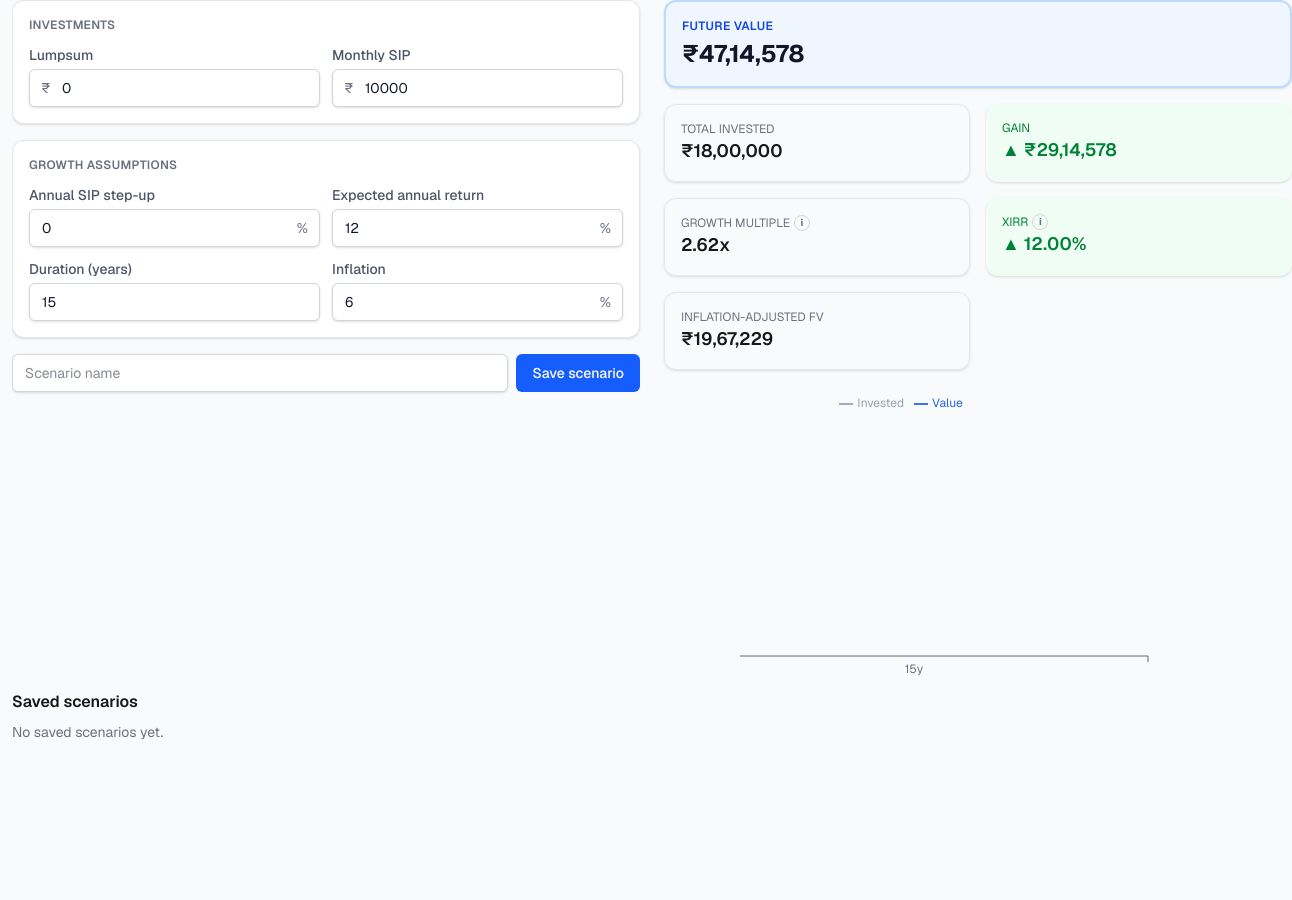
Scenario: CalculatorTab validation › replaces the results with a summary instead of computing on an empty field
Clear the number field labelled "Duration (years)" at [174, 302], box x1=29 y1=283 x2=320 y2=321
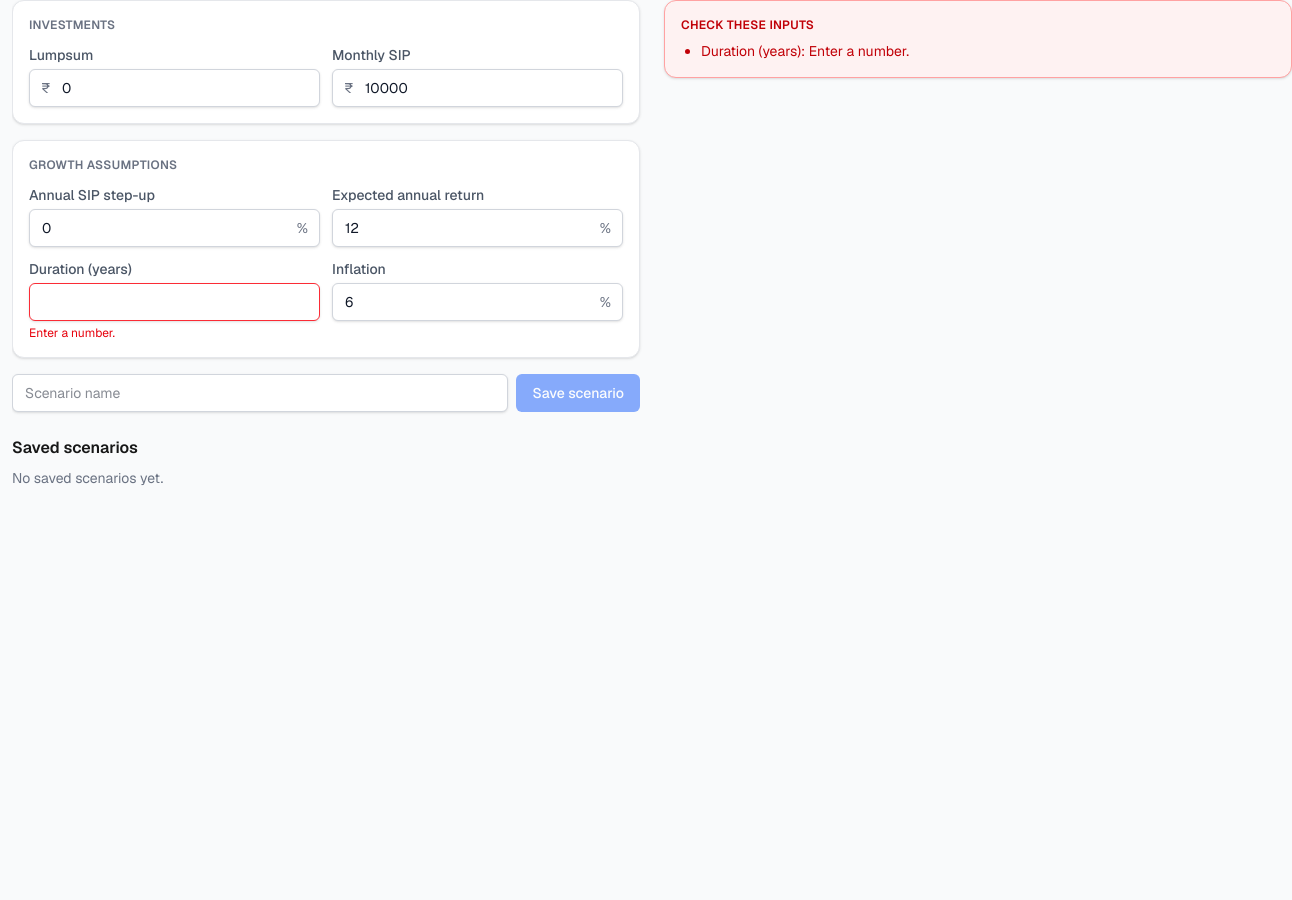
Result: the text "Future Value" is gone
Result: the list item "Duration (years): Enter a number." is shown at x1=701 y1=42 x2=909 y2=60
